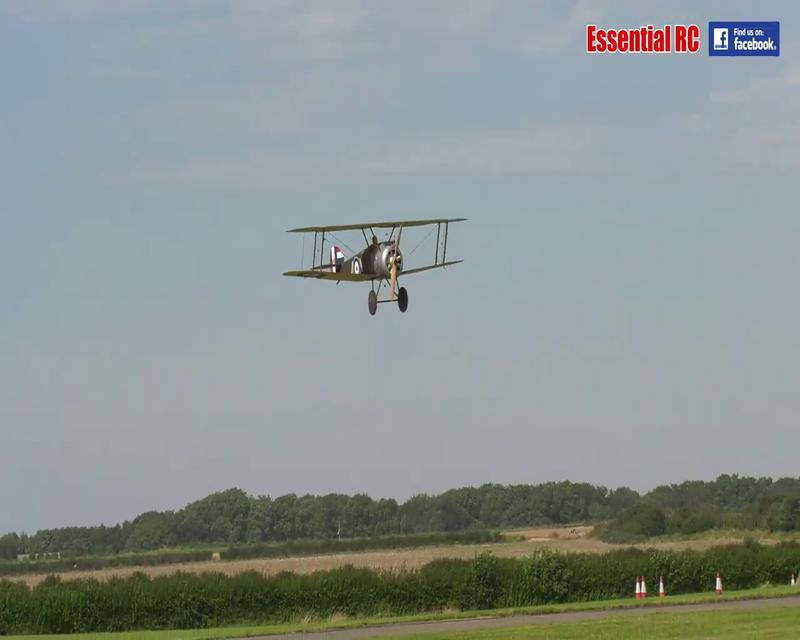UAV: (281, 215, 468, 315)
